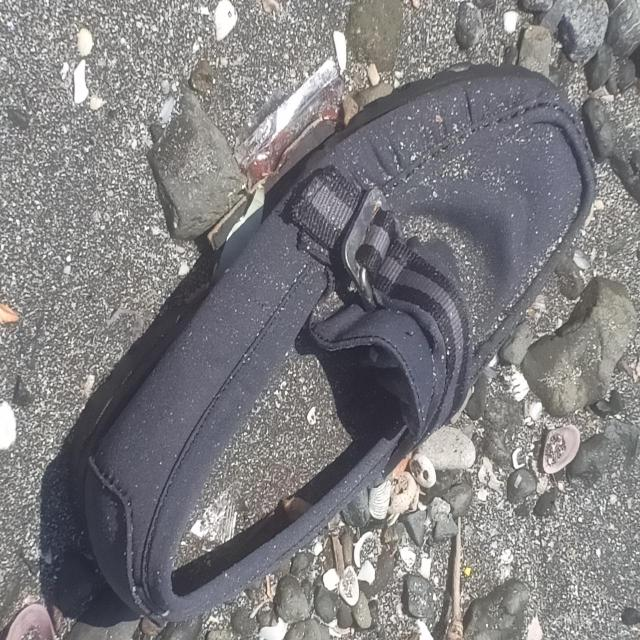rubber_waste: (68, 54, 594, 634)
